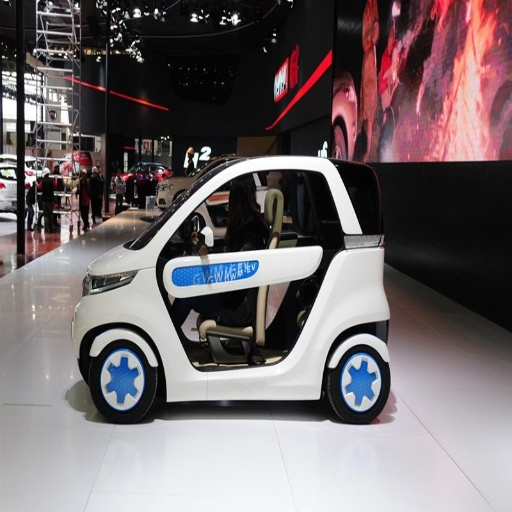front_bumper: (159, 271, 310, 396)
front_left_door: (171, 173, 263, 287)
